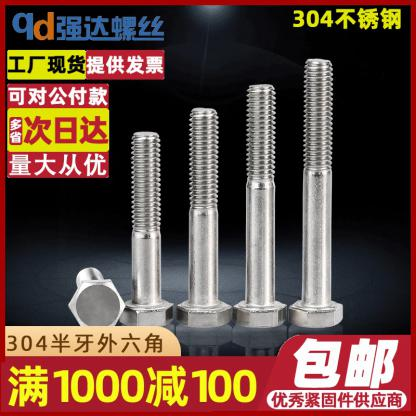FOD: (288, 57, 344, 331), (233, 82, 290, 330), (173, 108, 234, 329), (117, 129, 176, 330), (67, 263, 126, 328)
